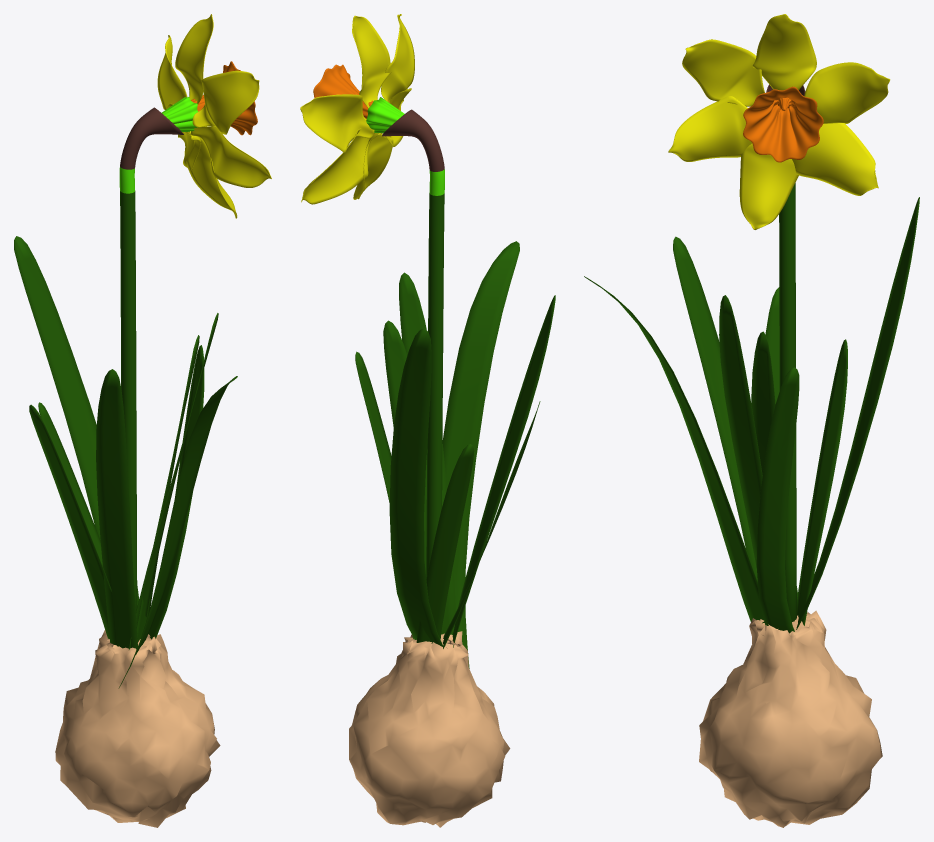
File: PLANTA.fbx
3 views of the same model, side by side, from view 1: azimuth 30°, elevation 25°; view 2: azimuth 150°, elevation 25°; view 3: azimuth 270°, elevation 25° (orthographic). The views are drawn at different scales.
Parts seen in each view (by area): view 1: Circle, Sphere; view 2: Circle, Sphere; view 3: Circle, Sphere.
Boxes of the visible parts, x1,y1,x2,y2 form: Circle: (14,14,271,688); Sphere: (55,630,220,827); Circle: (300,14,555,668); Sphere: (349,631,510,827); Circle: (584,14,919,633); Sphere: (699,610,882,827).
Size of the model in its own units: 564 by 2011 by 723.
